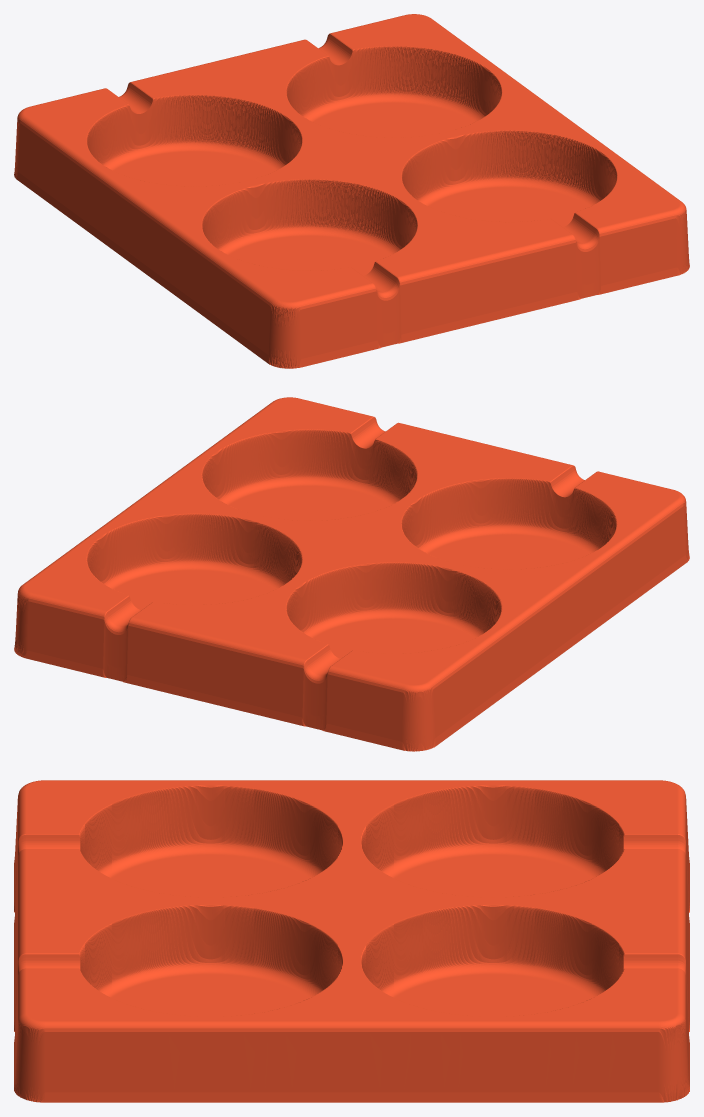
File: mold.glb
3 renders of one model, top to bottom at view 1: azimuth 30°, elevation 25°; view 2: azimuth 150°, elevation 25°; view 3: azimuth 270°, elevation 25°, orthographic. The views are drawn at different scales.
Visible parts, largest first — view 1: geometry_0; view 2: geometry_0; view 3: geometry_0.
Boxes of the visible parts, box(x1,y1,x2,y2) form: geometry_0: box(14, 14, 689, 368); geometry_0: box(14, 397, 689, 751); geometry_0: box(14, 780, 689, 1102).
Bounding box in the file's own units: 0.1726 × 0.0245 × 0.1968.
